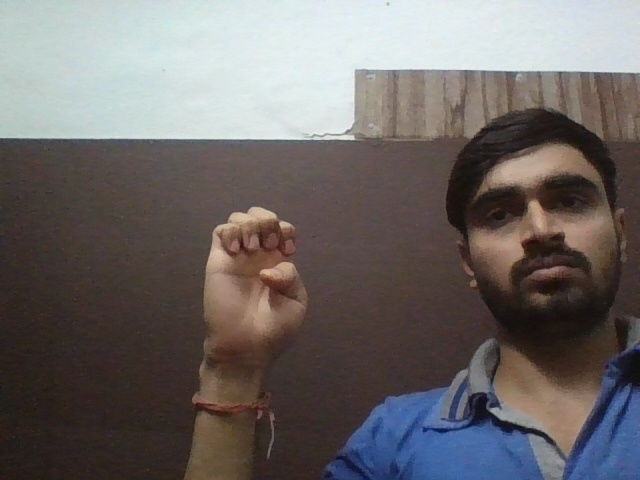E: (194, 203, 327, 373)
